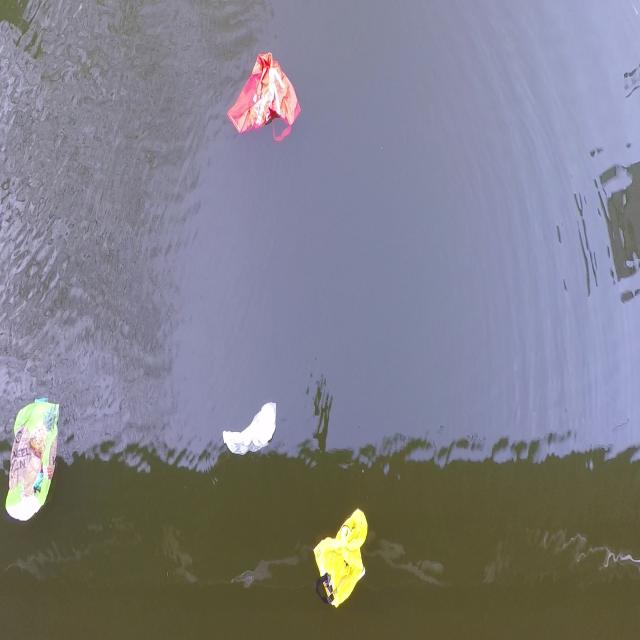Sac plastique: (1, 386, 63, 530), (222, 48, 306, 148), (307, 505, 373, 613), (216, 396, 281, 462)
